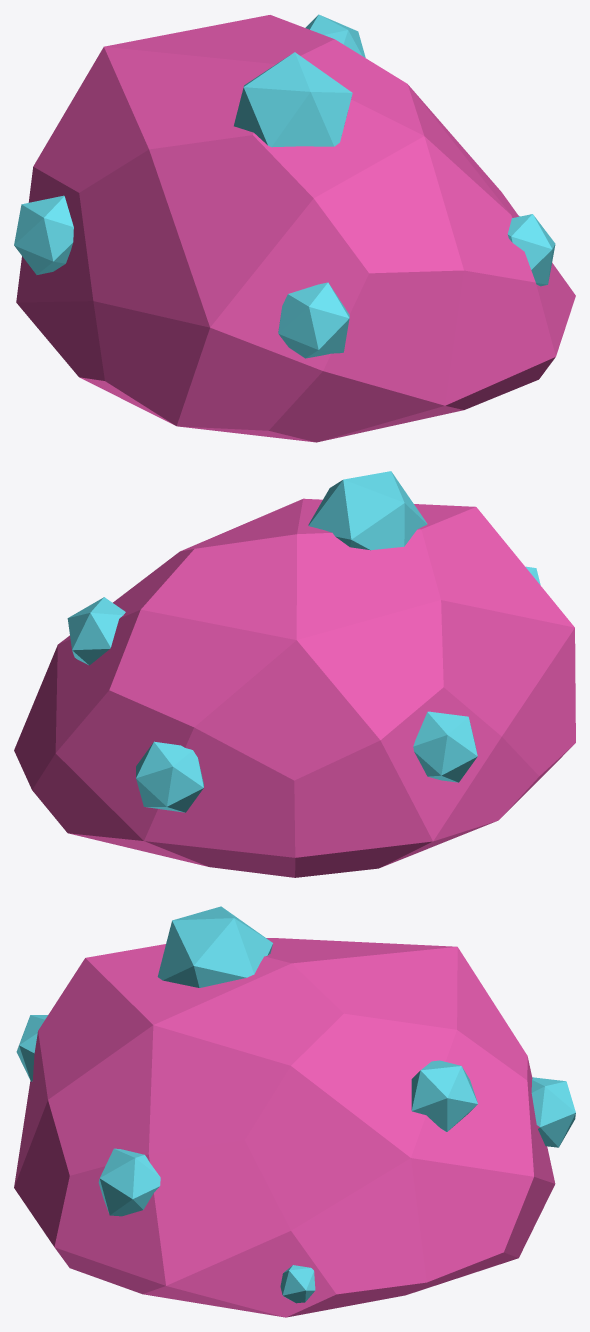
Rendered from Mushroom_Head_01.fbx.
3 renders of one model, top to bottom at view 1: azimuth 30°, elevation 25°; view 2: azimuth 150°, elevation 25°; view 3: azimuth 270°, elevation 25°, orthographic. The views are drawn at different scales.
Visible parts, largest first — view 1: Test_Mushroom_Head_01; view 2: Test_Mushroom_Head_01; view 3: Test_Mushroom_Head_01.
Part boxes in pixels (<box>): Test_Mushroom_Head_01: <box>14,14,575,442</box>; Test_Mushroom_Head_01: <box>14,471,575,877</box>; Test_Mushroom_Head_01: <box>14,906,575,1317</box>.
Size of the model in its own units: 149 by 90.06 by 161.
